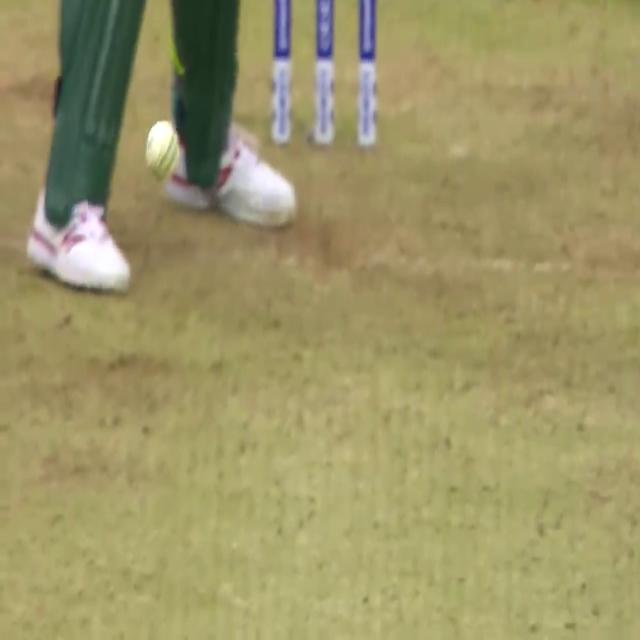ball: (132, 104, 188, 194)
